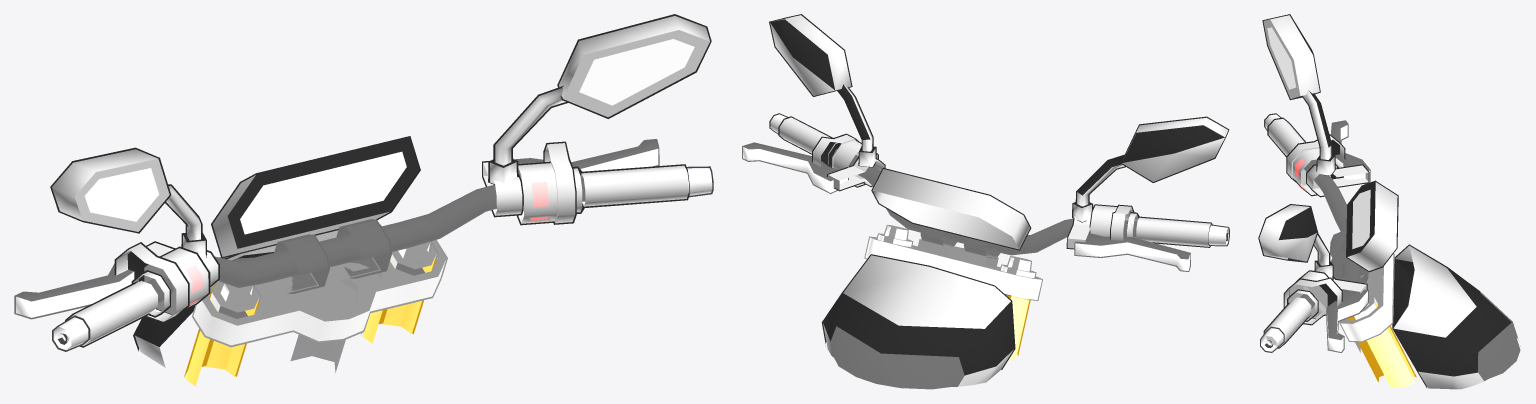
Rendered from HandlesBike-V2.fbx.
3 views of the same model, side by side, from view 1: azimuth 30°, elevation 25°; view 2: azimuth 150°, elevation 25°; view 3: azimuth 270°, elevation 25° (orthographic). The views are drawn at different scales.
Parts seen in each view (by area): view 1: Body_Bike_Mat_Lighter_0.001; view 2: Body_Bike_Mat_Lighter_0.001; view 3: Body_Bike_Mat_Lighter_0.001.
Part boxes in pixels (<box>): Body_Bike_Mat_Lighter_0.001: <box>14,14,713,386</box>; Body_Bike_Mat_Lighter_0.001: <box>742,14,1229,389</box>; Body_Bike_Mat_Lighter_0.001: <box>1258,14,1520,389</box>.
Size of the model in its own units: 83.32 by 39.86 by 40.88.
